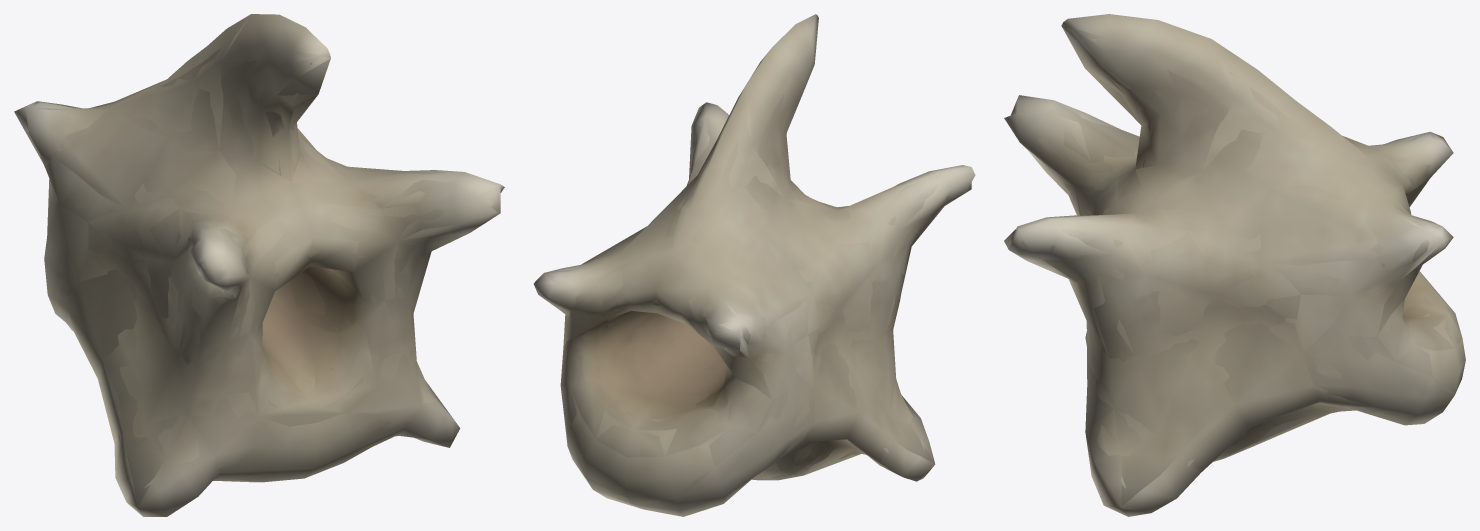
File: vertebrae lumbales 1.fbx
3 renders of one model, left to right at view 1: azimuth 30°, elevation 25°; view 2: azimuth 150°, elevation 25°; view 3: azimuth 270°, elevation 25°, orthographic. The views are drawn at different scales.
Visible parts, largest first — view 1: vertebrae lumbales 1 low, vertebrae lumbales 1, vertebrae lumbales 1 high; view 2: vertebrae lumbales 1, vertebrae lumbales 1 low, vertebrae lumbales 1 high; view 3: vertebrae lumbales 1, vertebrae lumbales 1 low, vertebrae lumbales 1 high.
Part boxes in pixels (x1,y1,x2,y2): vertebrae lumbales 1 low: [15, 16, 500, 511]; vertebrae lumbales 1: [14, 14, 504, 516]; vertebrae lumbales 1 high: [25, 40, 494, 487]; vertebrae lumbales 1: [534, 14, 975, 516]; vertebrae lumbales 1 low: [534, 19, 950, 512]; vertebrae lumbales 1 high: [550, 94, 952, 510]; vertebrae lumbales 1: [1004, 14, 1465, 516]; vertebrae lumbales 1 low: [1009, 25, 1462, 514]; vertebrae lumbales 1 high: [1011, 39, 1461, 488].
Size of the model in its own units: 1.1 by 1.51 by 1.45.
Materials: 1 (1 with a texture image).
